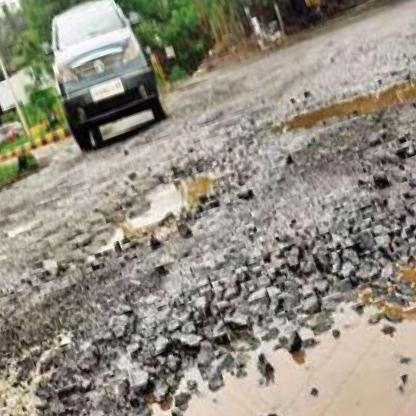pothole: (0, 152, 416, 416), (77, 142, 242, 263), (271, 53, 416, 155)
